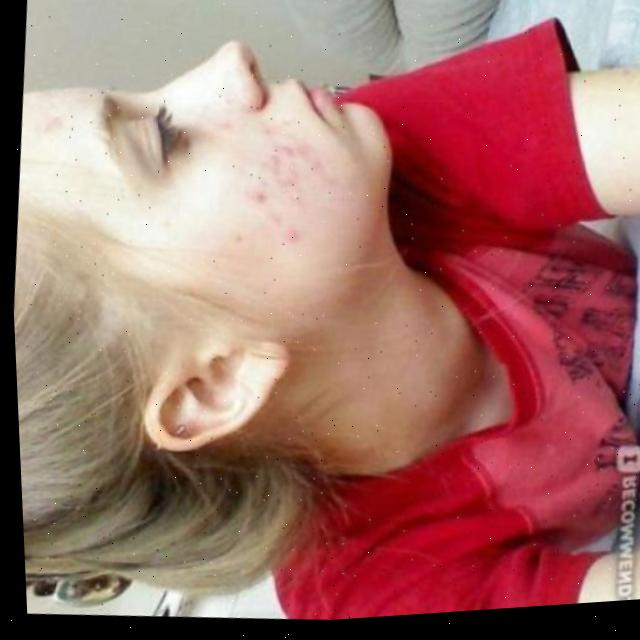Acne: (229, 122, 357, 252)
